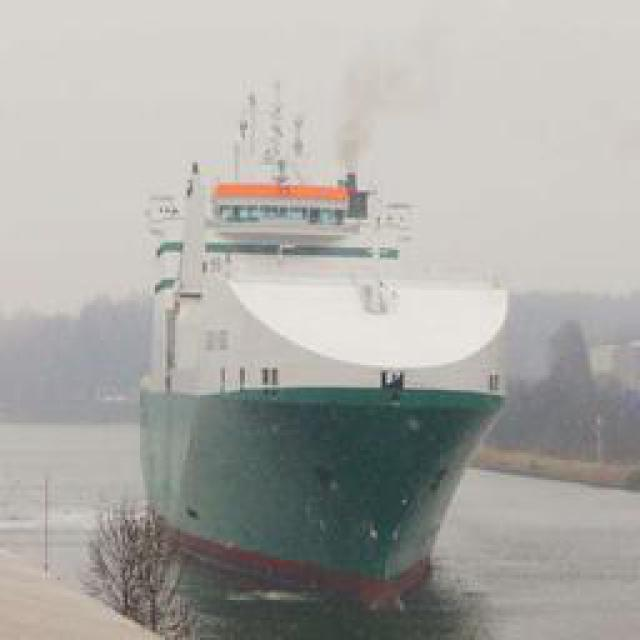Ship: (145, 145, 518, 623)
